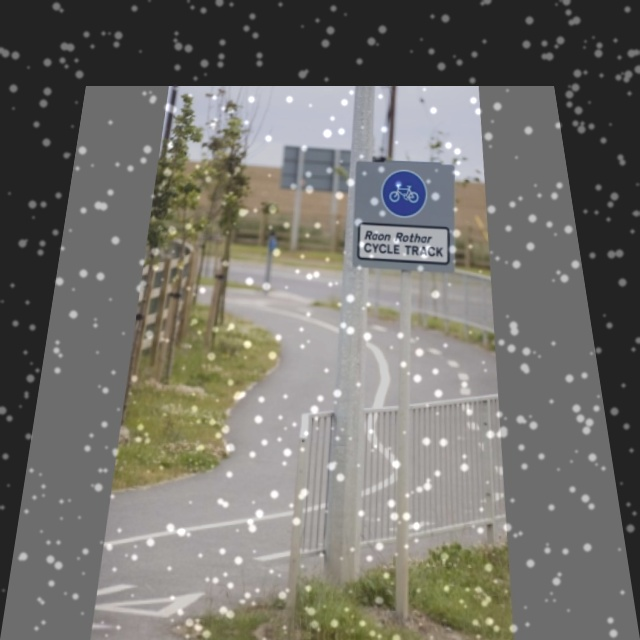Compulsory_Cycle_Track: (373, 165, 434, 223)
